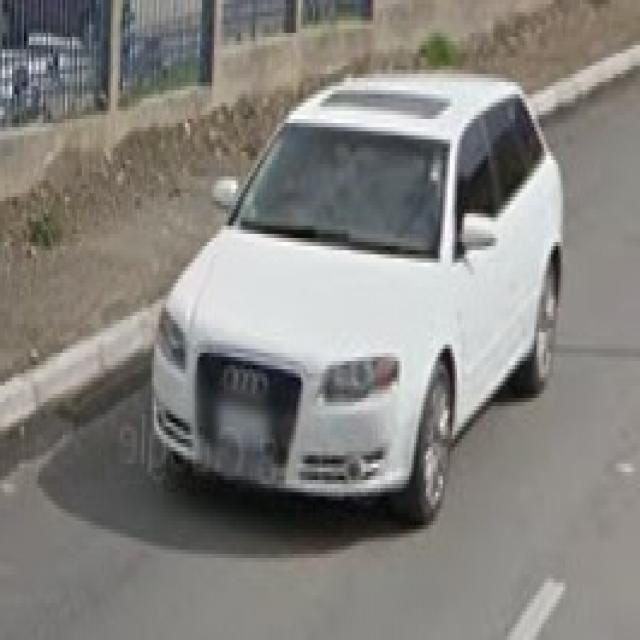car: (150, 71, 565, 526)
